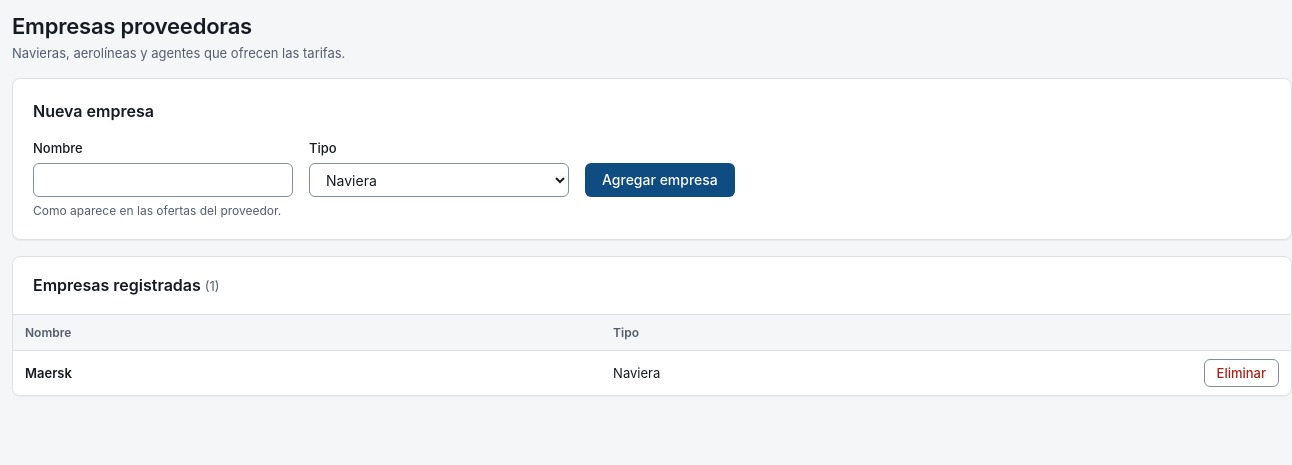
Test: EmpresasPage — UX › confirma la creación con un aviso
Type "DHL" into the field labelled "Nombre" at (163, 180), box left=33, top=163, right=293, bottom=197
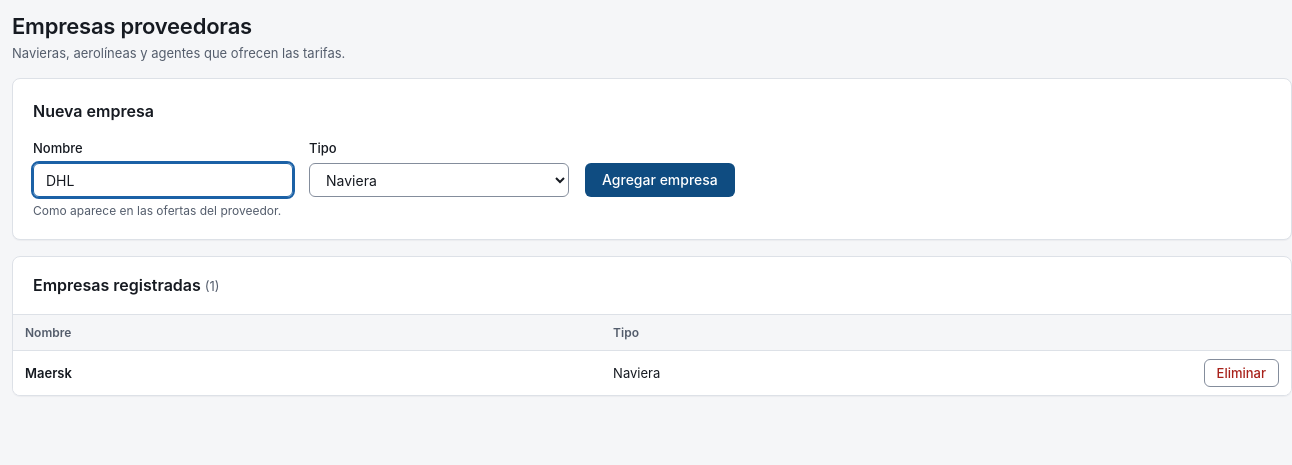
Click the button "Agregar empresa" at (660, 180), box left=585, top=163, right=735, bottom=197
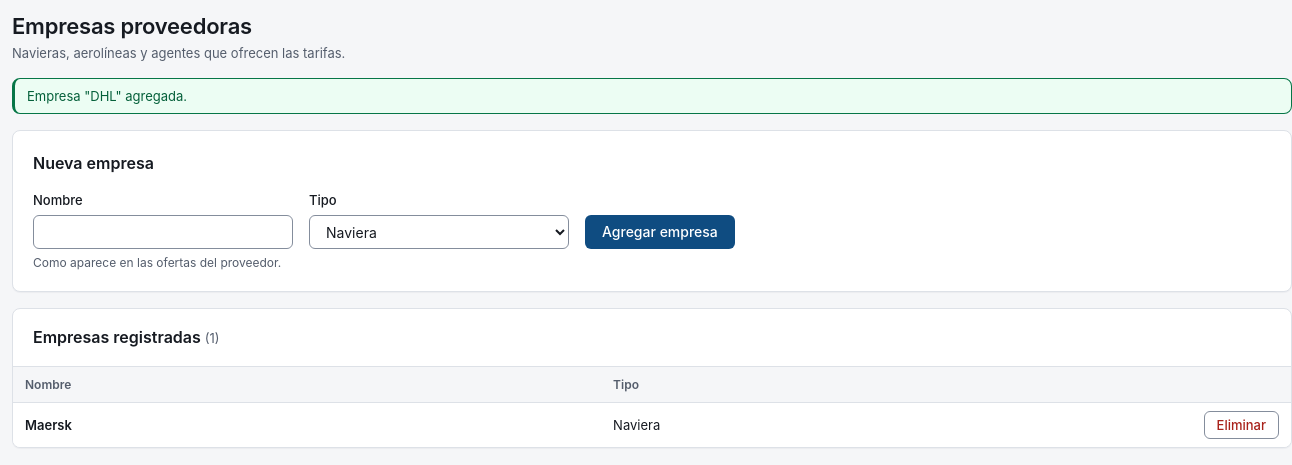
Now the message reads "Empresa \"DHL\" agregada.", box left=27, top=88, right=187, bottom=104
